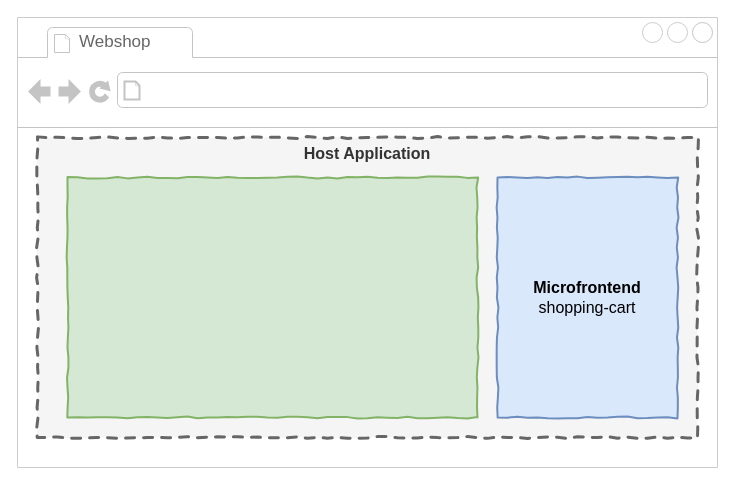
Image size: 735x485. Some labels were removed from this diagram. The centre of each missing label's shape, as x and y in pixels:
"http://localhost:4200" belongs at [272,90].
"Microfrontend products" belongs at [272,297].
